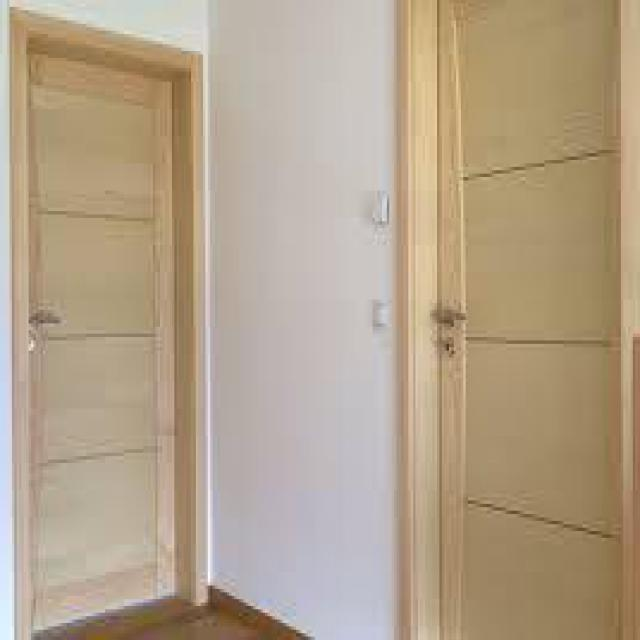door: (6, 5, 206, 638)
